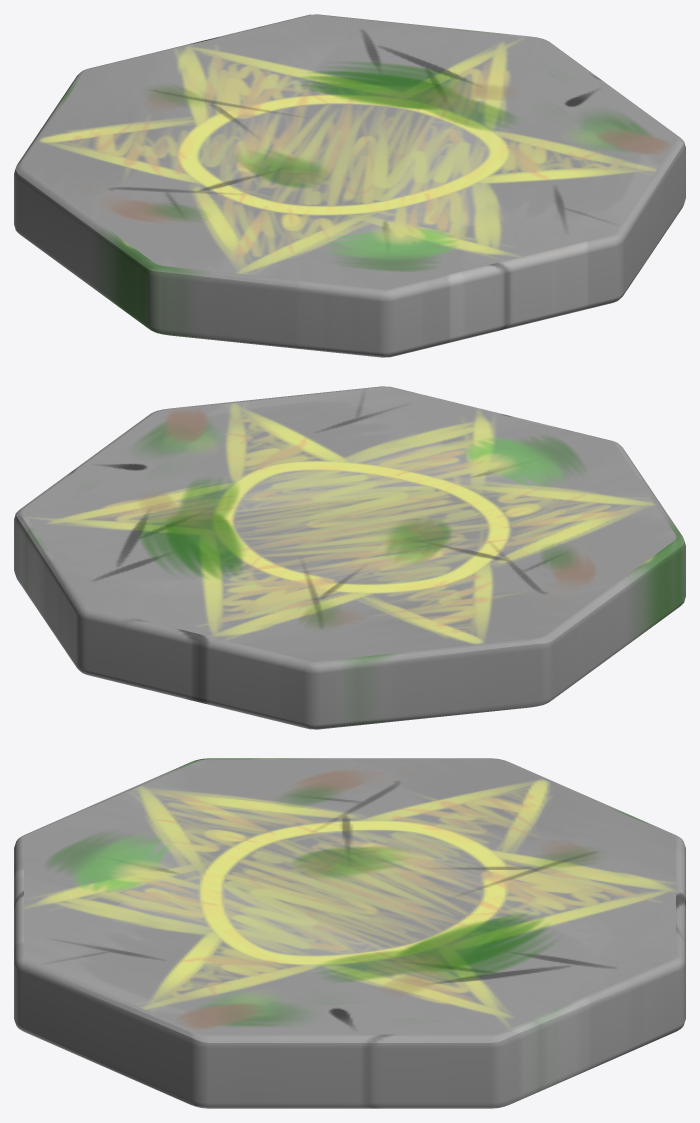
Rendered from time_stone_reex.dae.
3 views of the same model, one above another, from view 1: azimuth 30°, elevation 25°; view 2: azimuth 150°, elevation 25°; view 3: azimuth 270°, elevation 25° (orthographic). The views are drawn at different scales.
Parts seen in each view (by area): view 1: pCube1; view 2: pCube1; view 3: pCube1.
Boxes of the visible parts, left/top/right/bottom form: pCube1: left=14, top=14, right=685, bottom=357; pCube1: left=14, top=386, right=685, bottom=729; pCube1: left=14, top=758, right=685, bottom=1108.
Bounding box in the file's own units: 5 × 0.6 × 5.
